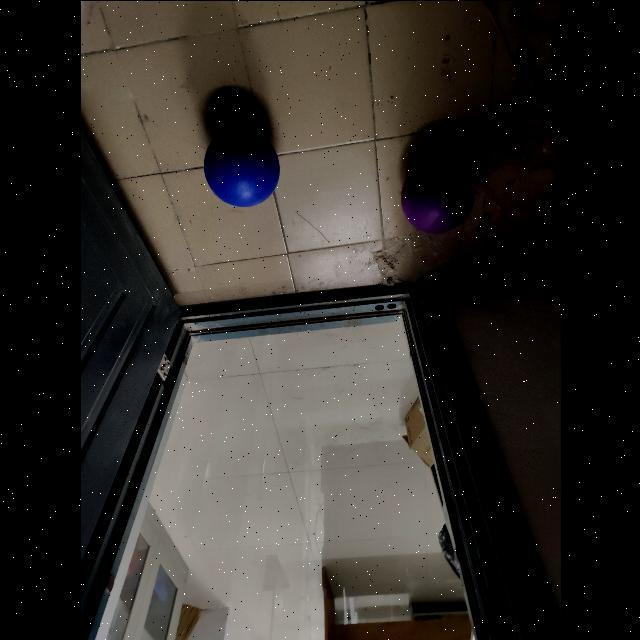B: (202, 122, 280, 205)
P: (398, 152, 476, 236)
